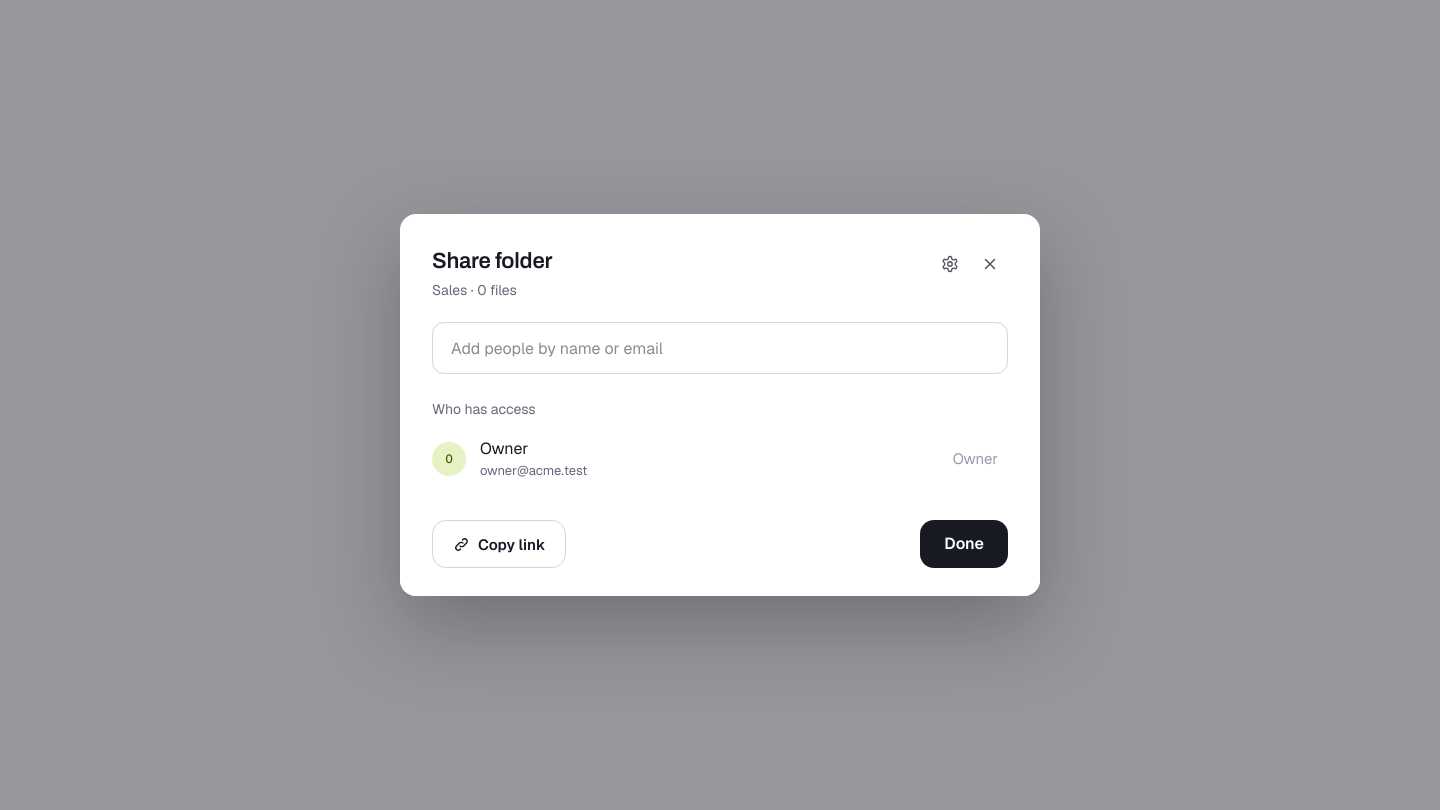
Test case: ProjectShareDialog invites › invites a new address as Collaborator with no pin
Click the field labelled "Add people by name or email". click: (720, 348)
box: top-left (432, 322), bottom-right (1008, 374)
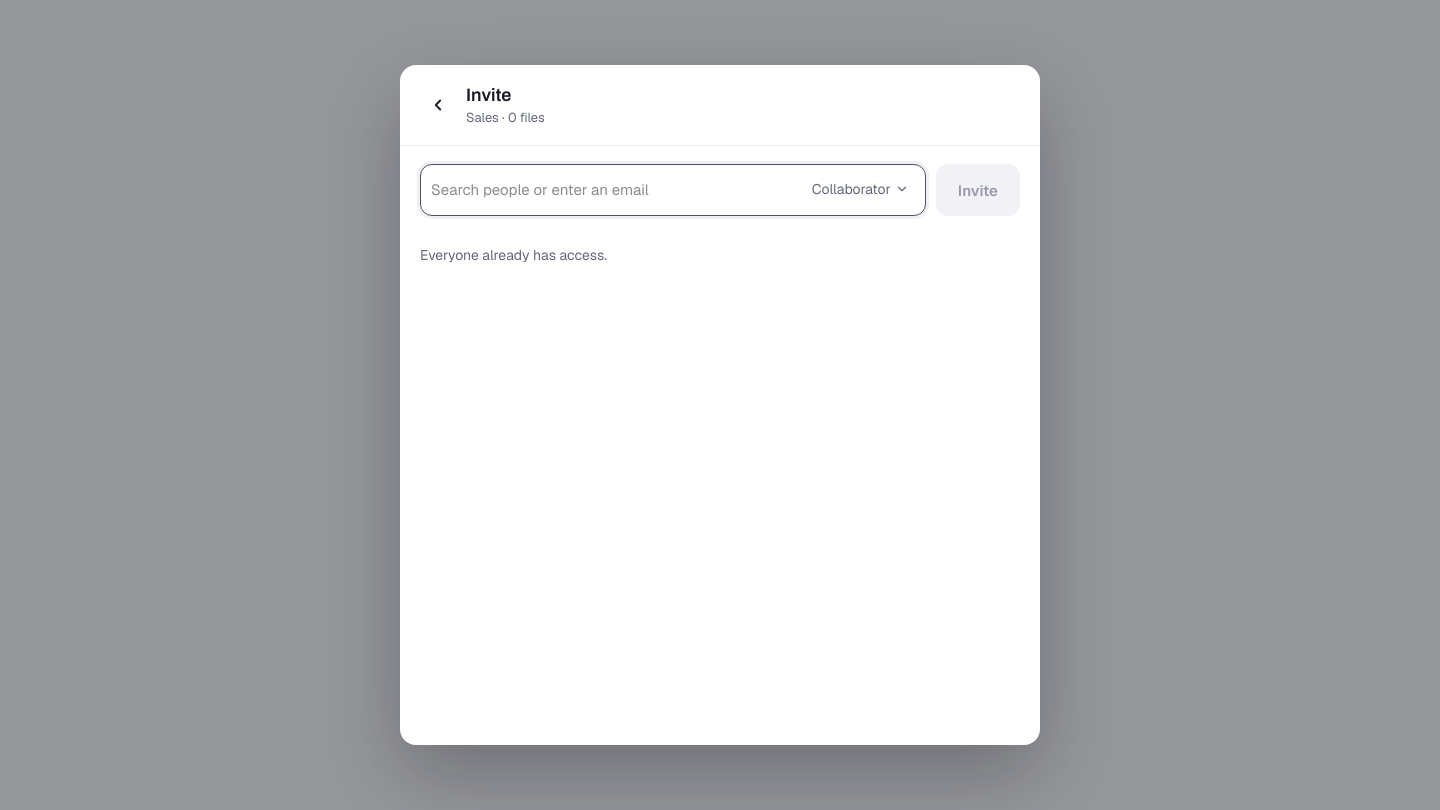
Type "ada@elsewhere.test" into the field named "Add people by name or email". click: (612, 189)
box: top-left (431, 173), bottom-right (794, 205)
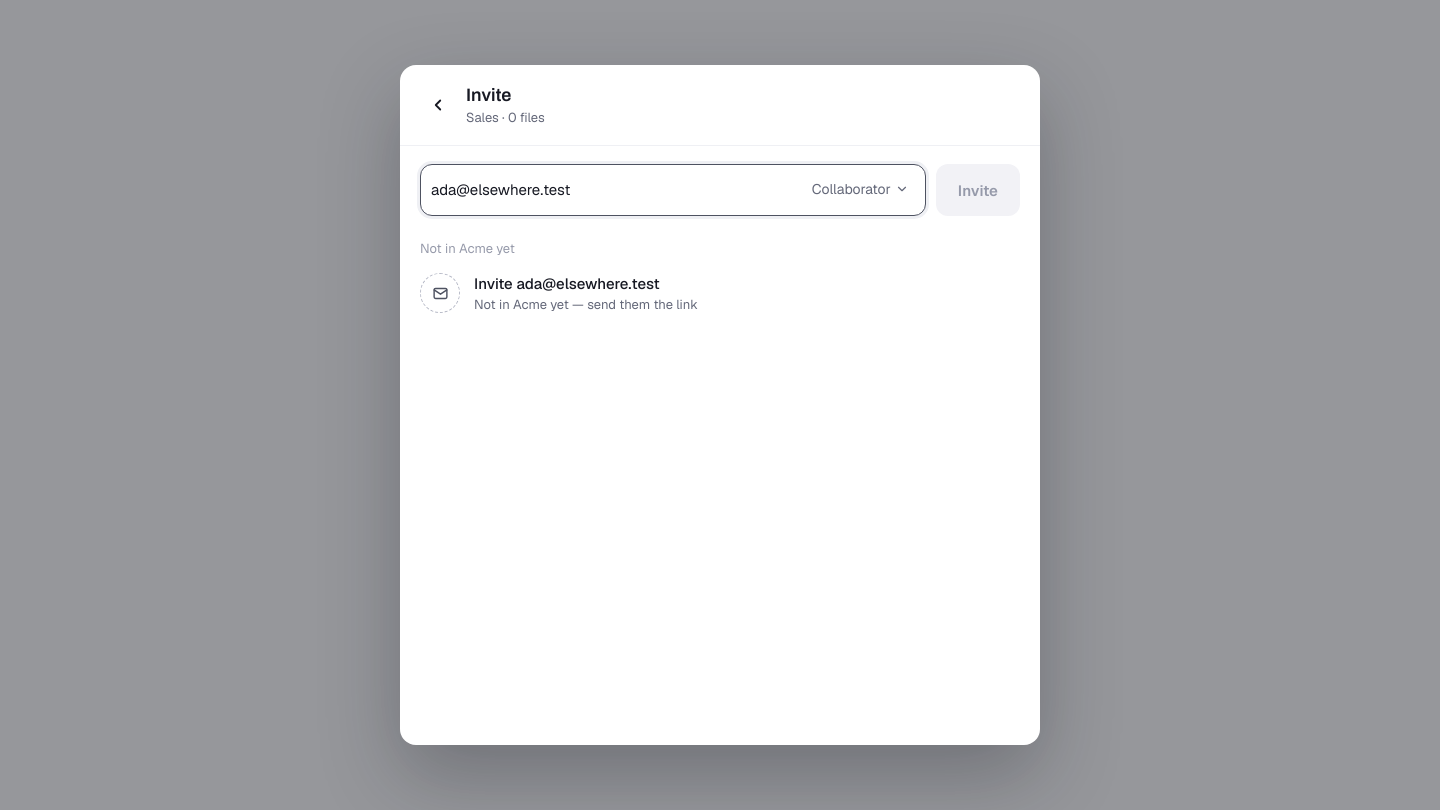
Click the button "Invite ada@elsewhere.test". click: (440, 293)
box: top-left (408, 263), bottom-right (1032, 324)
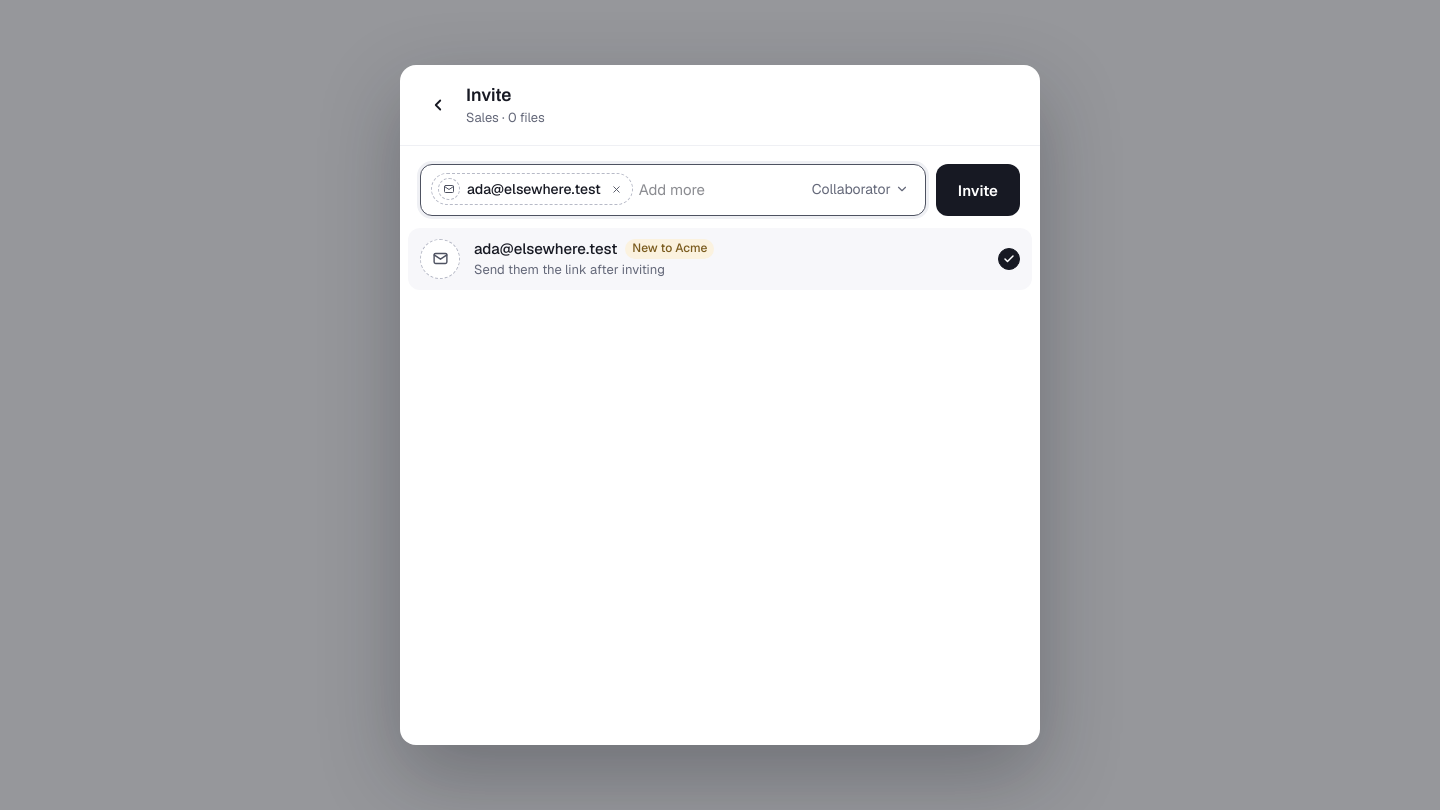
Click the button "Invite". click: (978, 190)
box: top-left (936, 164), bottom-right (1020, 216)
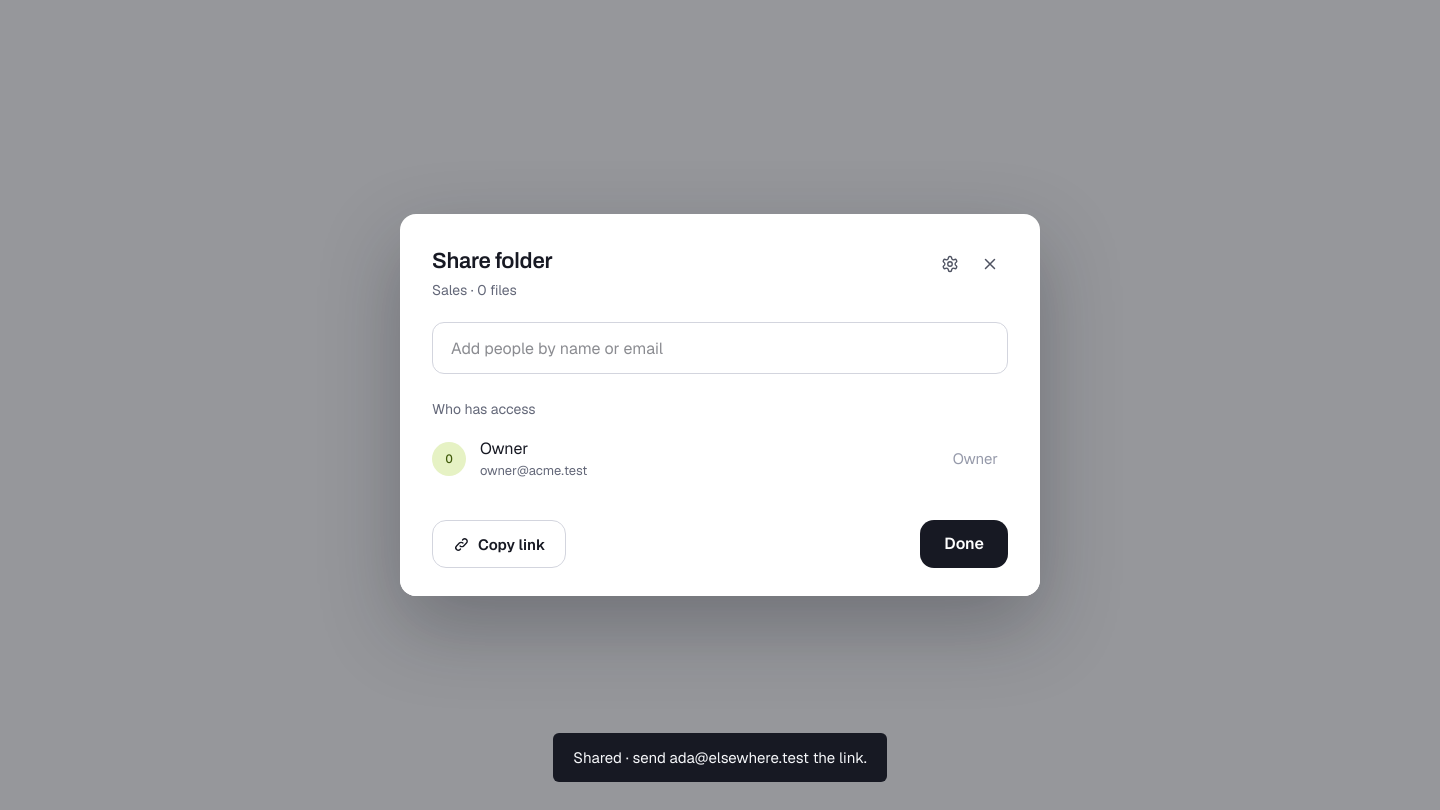
Expected: the text "Shared · send ada@elsewhere.test the link." is shown, top-left (553, 733), bottom-right (887, 782)
